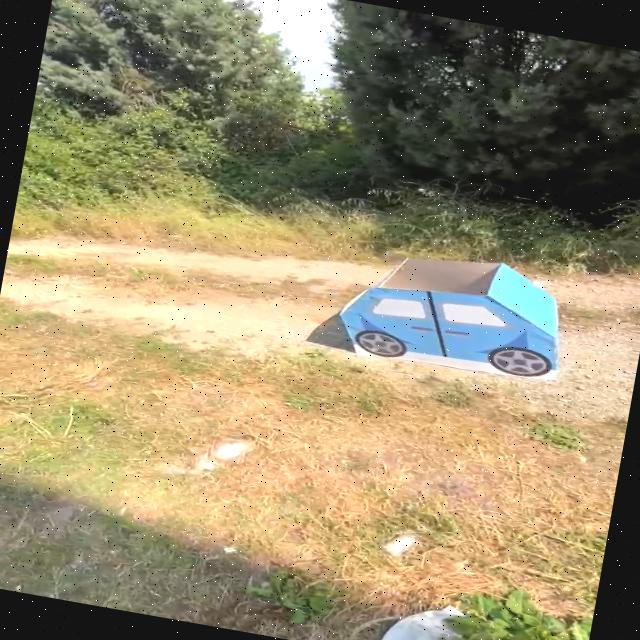blue_car: (316, 231, 595, 403)
